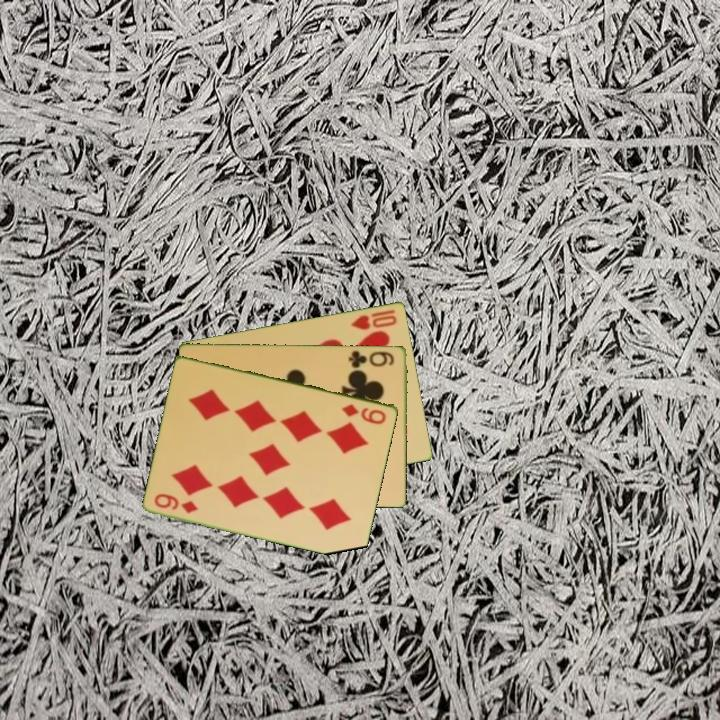10h: (348, 306, 400, 333)
6c: (346, 347, 397, 370)
9d: (338, 400, 389, 427), (151, 490, 201, 516)
